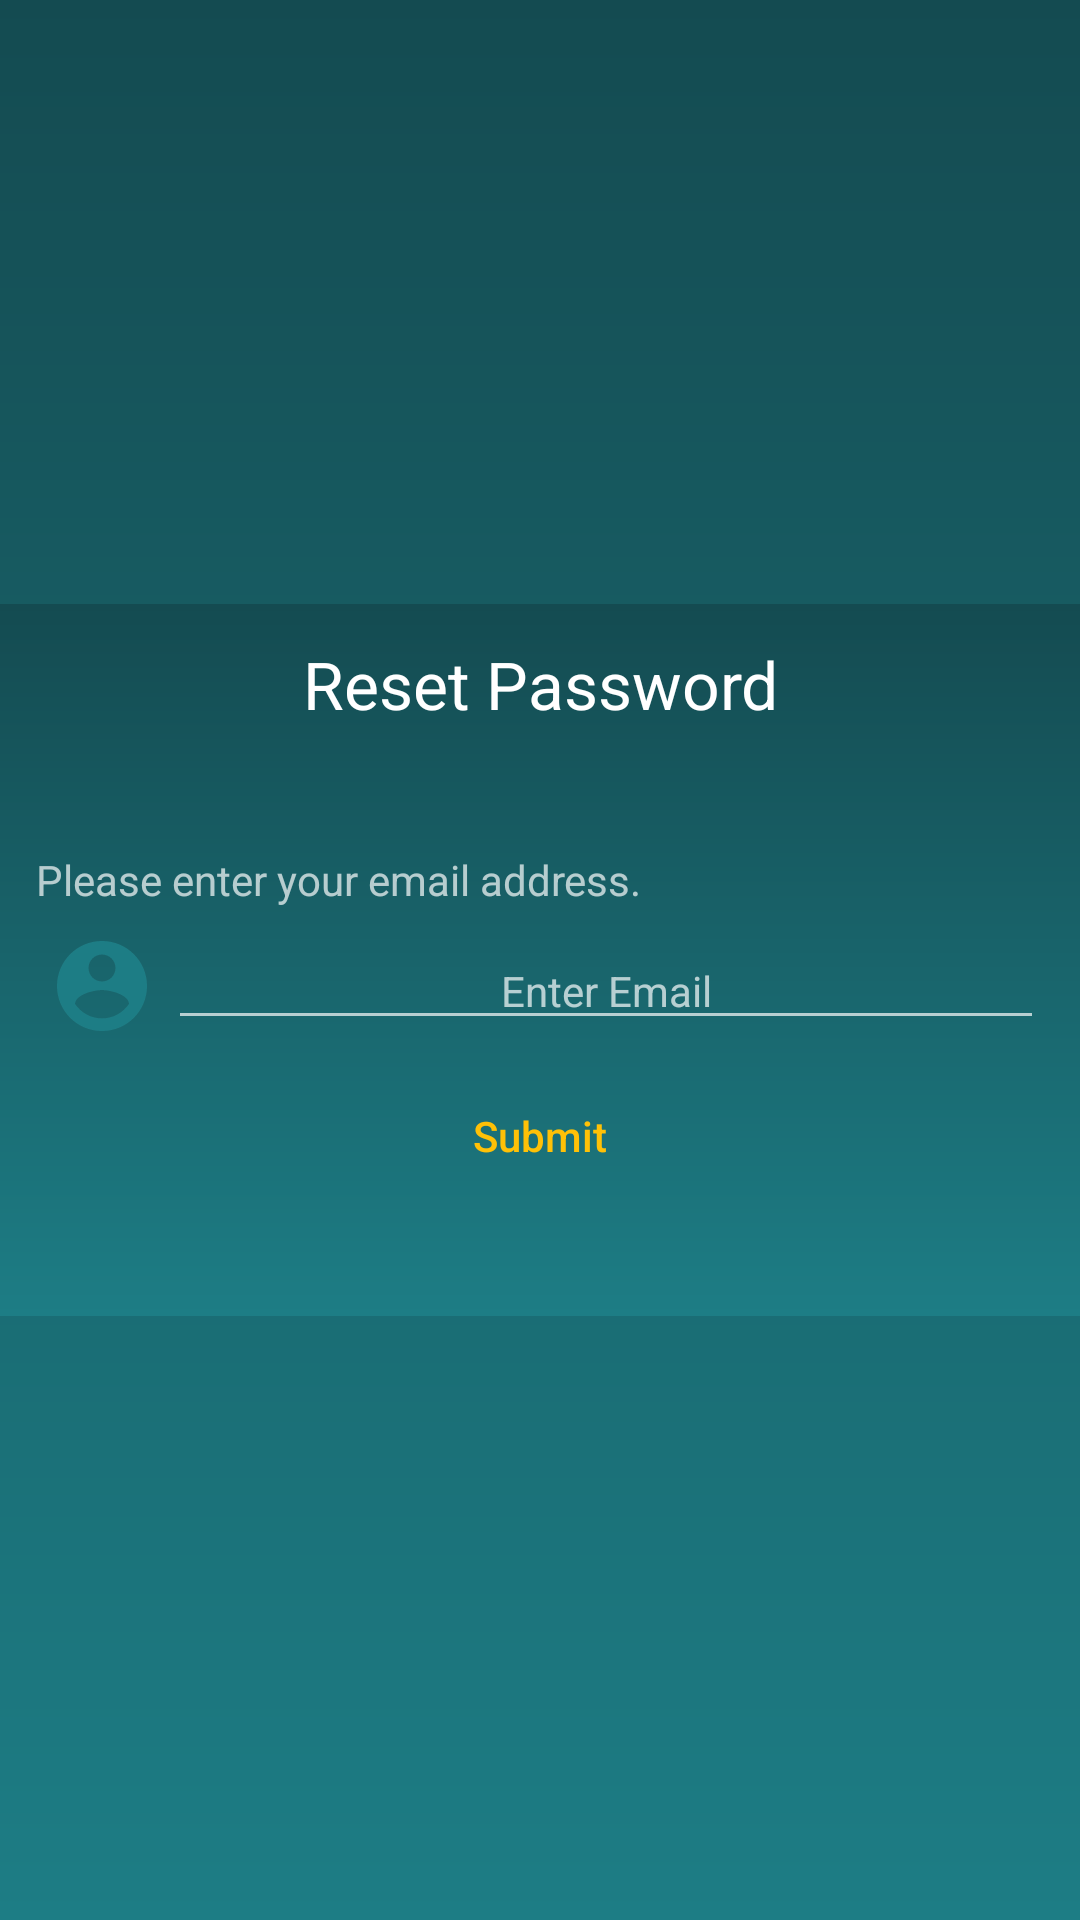

Named icons in this screenshot (1080px x 1920px) and their bounding boxes, [x1,y1,x2,y2]:
account circle: [57,941,147,1031]
